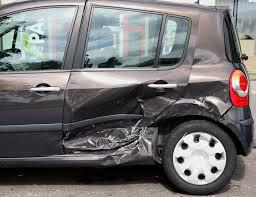doorouter-dent: (69, 69, 180, 162)
quaterpanel-dent: (188, 53, 243, 122)
